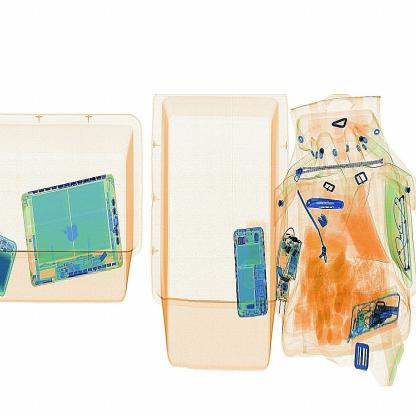knife: (302, 192, 359, 226)
